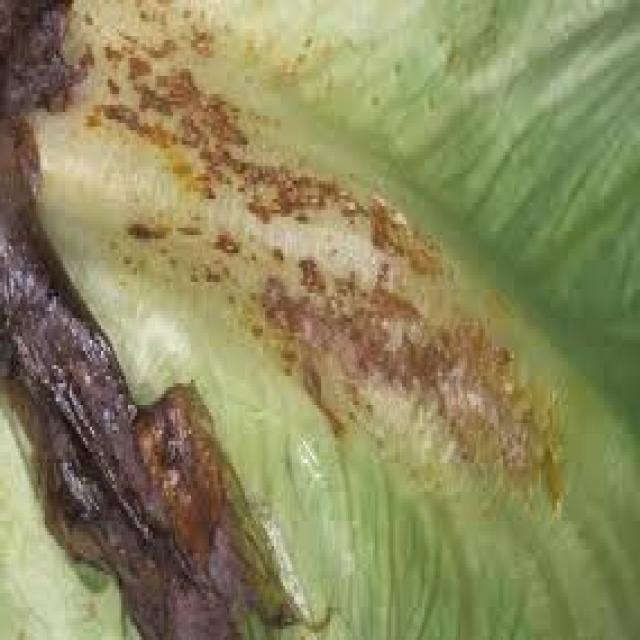Septoria_Blight_on_lettuce: (6, 33, 584, 591)
